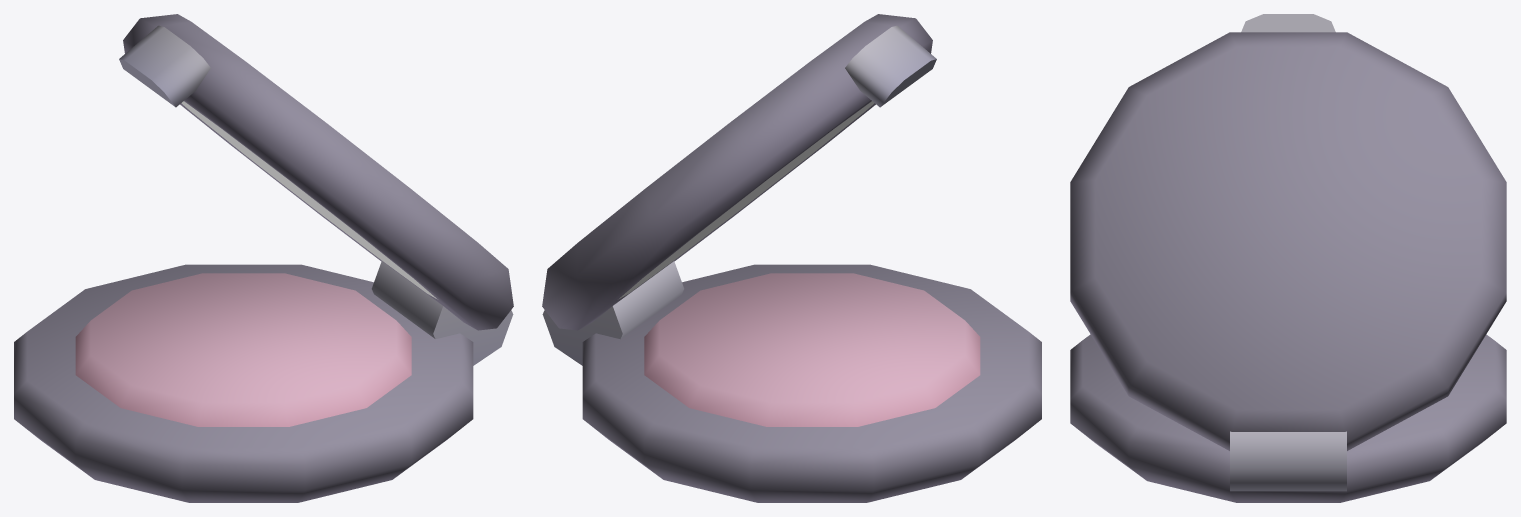
File: makeup-compact-round.glb
The picture shows the model from 3 angles, left to right: view 1: azimuth 30°, elevation 25°; view 2: azimuth 150°, elevation 25°; view 3: azimuth 270°, elevation 25°; orthographic projection. The views are drawn at different scales.
Parts seen in each view (by area): view 1: makeup-compact-round; view 2: makeup-compact-round; view 3: makeup-compact-round.
Part boxes in pixels (x1,y1,x2,y2): makeup-compact-round: [14, 14, 513, 502]; makeup-compact-round: [542, 14, 1041, 502]; makeup-compact-round: [1070, 14, 1506, 502].
Bounding box in the file's own units: 0.1914 × 0.1656 × 0.1739.
